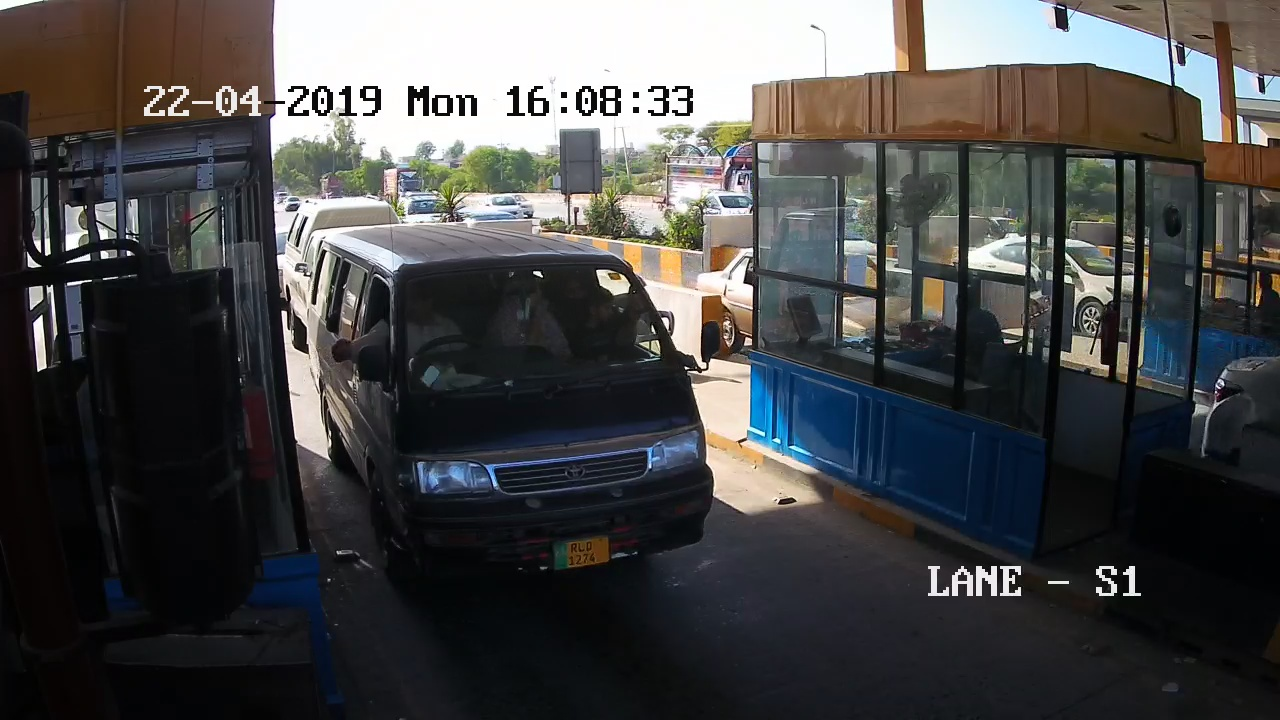Number Plate (Car): (550, 537, 611, 568)
